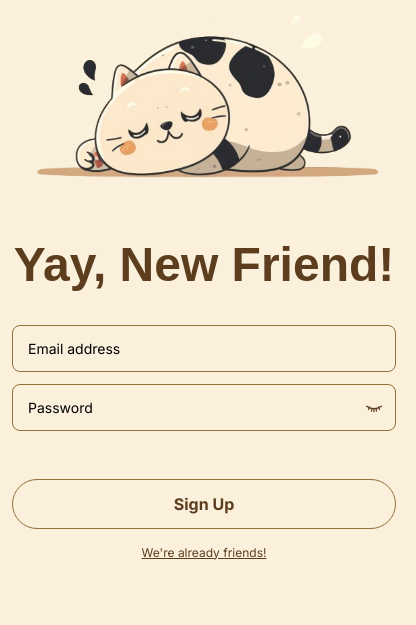
Test: RegisterForm › shows API field errors returned from the server
This screenshot has width=416, height=625.
Type "taken@example.com" into the field with placeholder "Email address" at [204, 348], box [12, 325, 396, 372]
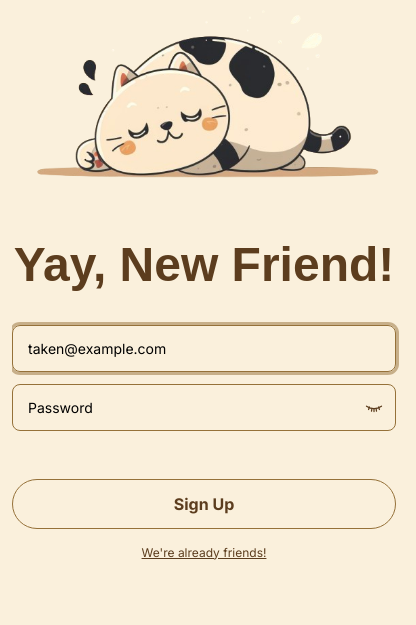
Type "password123" into the password field with placeholder "Password" at [204, 407], box [12, 384, 396, 431]
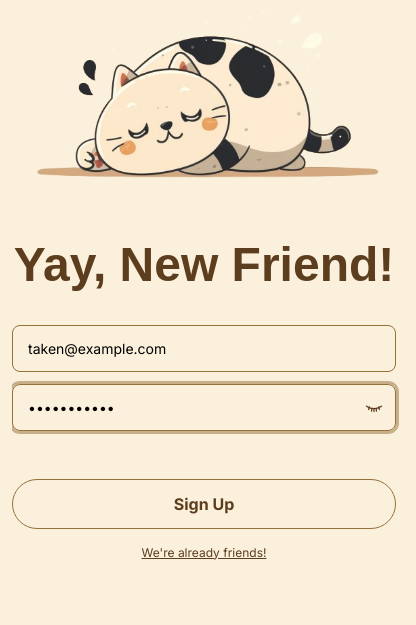
Click the button "Sign Up" at [204, 504], box [12, 479, 396, 529]
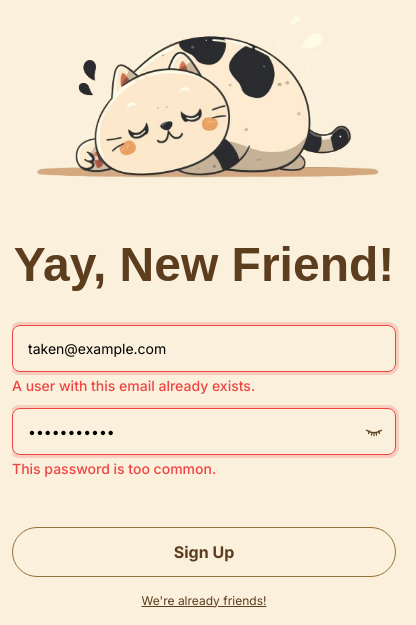
Result: the text "A user with this email already exists." is shown at [12, 377, 255, 394]
Result: the text "This password is too common." is shown at [12, 460, 216, 477]
